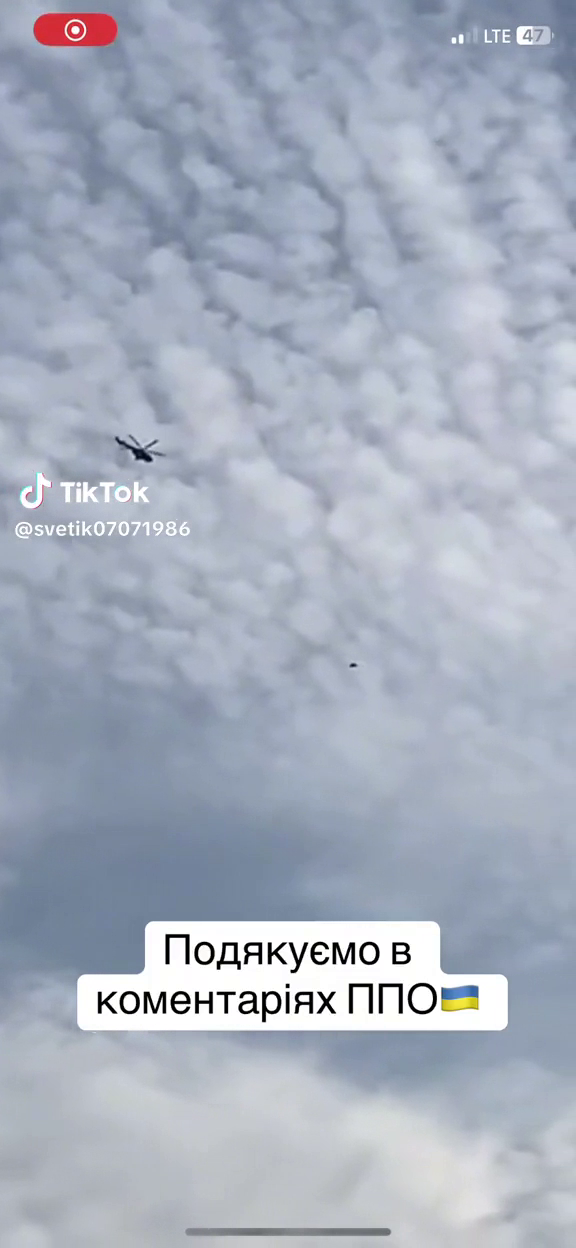not_drone: (112, 430, 168, 466)
